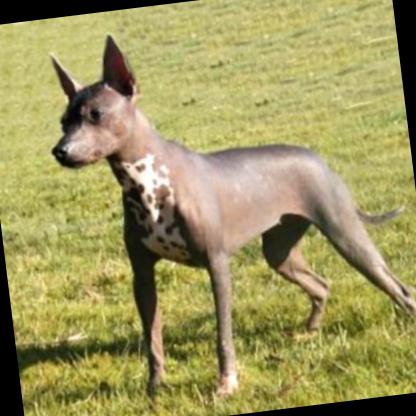Mexican_hairless: (38, 0, 416, 412)
